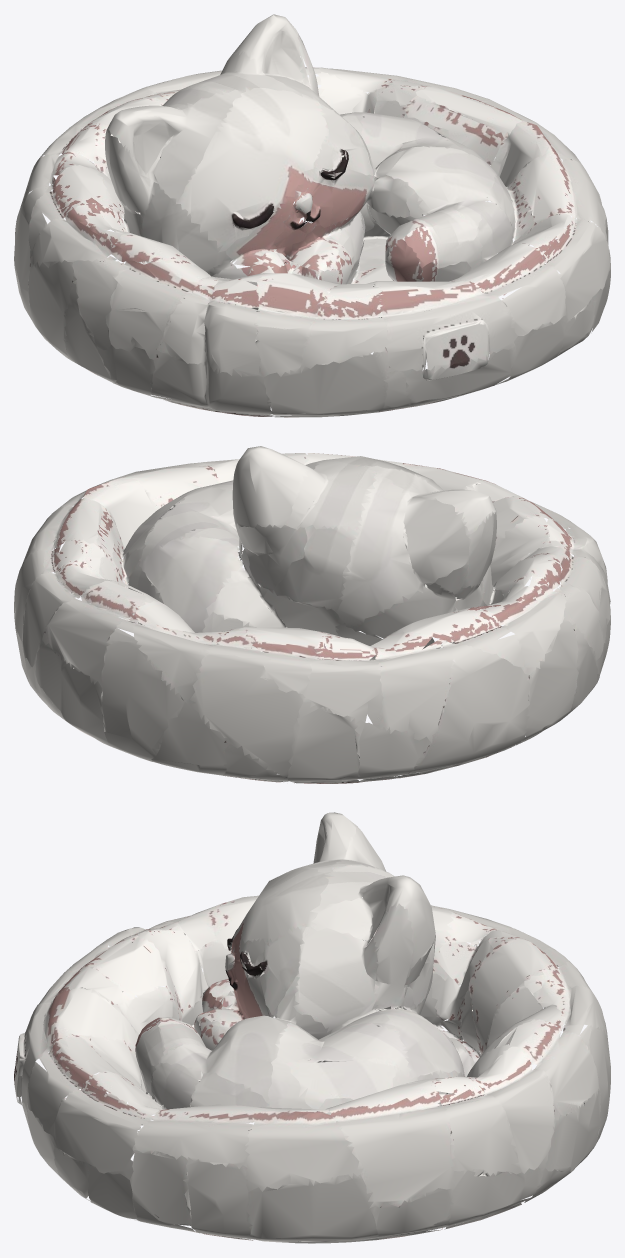
File: snow-catnap.glb
3 renders of one model, top to bottom at view 1: azimuth 30°, elevation 25°; view 2: azimuth 150°, elevation 25°; view 3: azimuth 270°, elevation 25°, orthographic.
Visible parts, largest first — view 1: catnap_orange; view 2: catnap_orange; view 3: catnap_orange.
Boxes of the visible parts, x1,y1,x2,y2 form: catnap_orange: (14, 14, 610, 417); catnap_orange: (14, 446, 610, 783); catnap_orange: (14, 812, 610, 1243).
Size of the model in its own units: 1.89 by 0.8857 by 1.89.
Materials: 1 (1 with a texture image).
